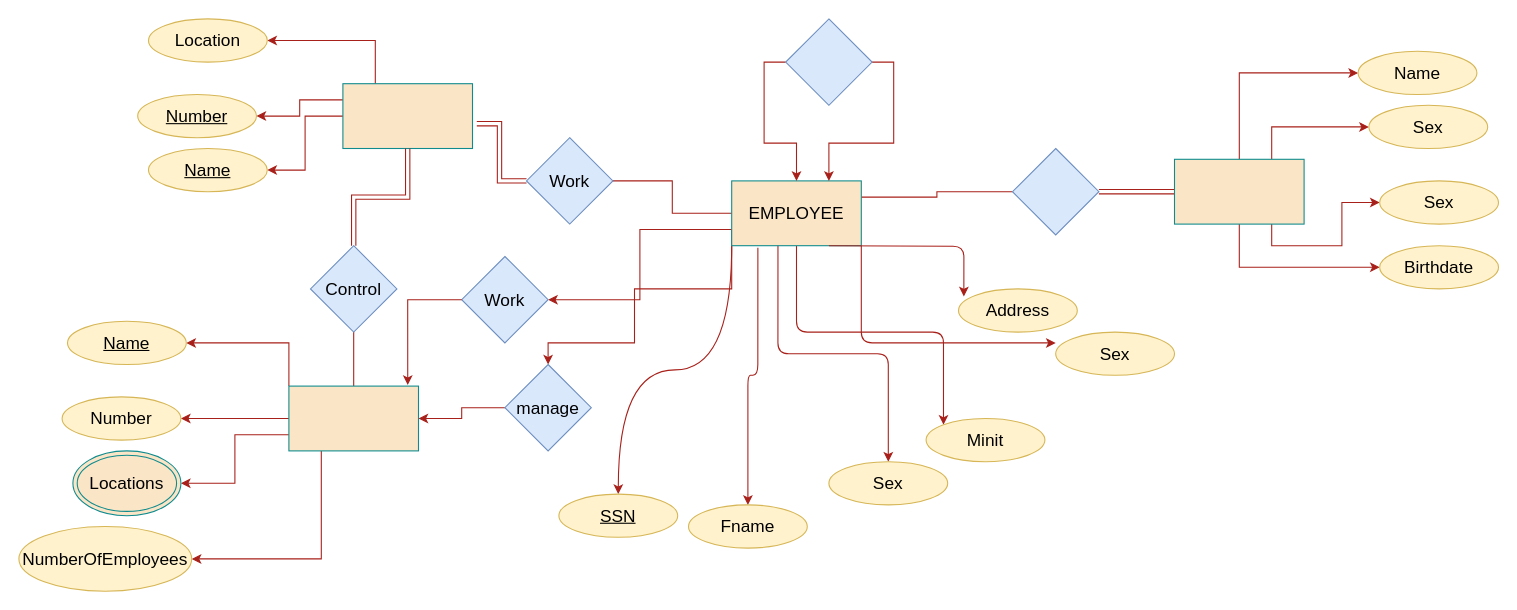
The diagram is 1517 pixels wide and 610 high, and some of its shapes have lost their labels. The centre of each missing label's shape, as x and y in pixels:
DEPARTMENT: pixel 353 418
DEPENDENT: pixel 1238 191
have: pixel 1055 191
PROJECT: pixel 407 115
Supervise: pixel 828 61
